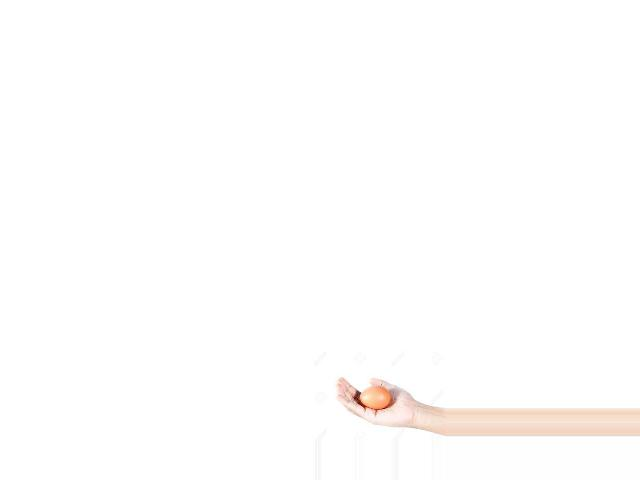egg: (360, 386, 390, 409)
